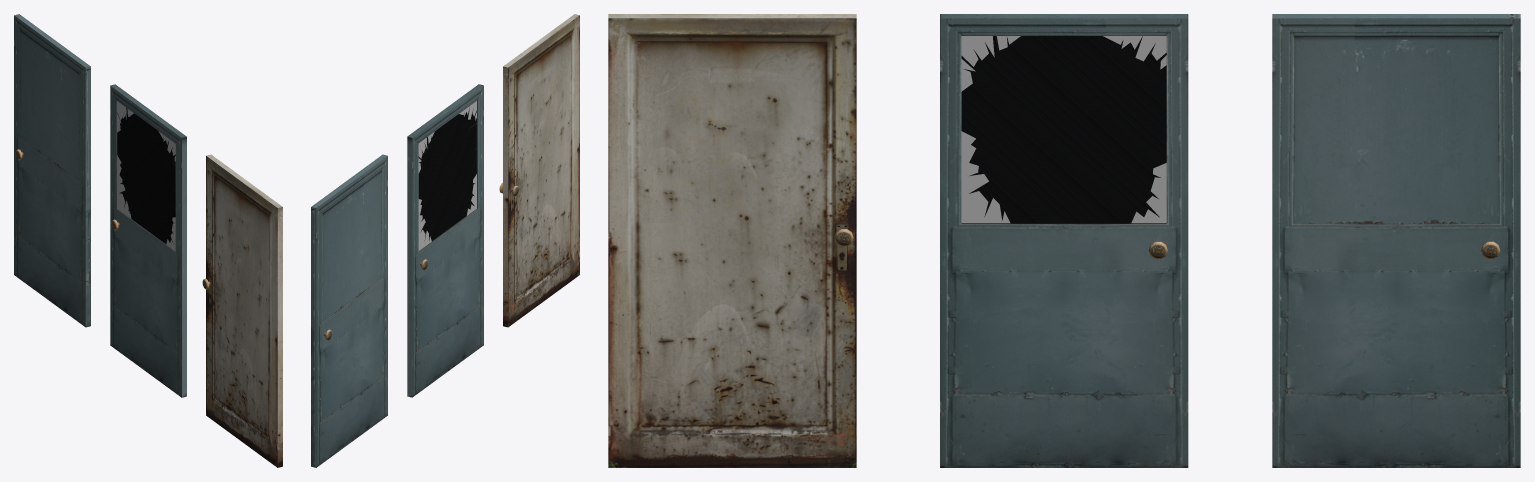
The model's file is Doors.FBX.
The picture shows the model from 3 angles, left to right: view 1: azimuth 30°, elevation 25°; view 2: azimuth 150°, elevation 25°; view 3: azimuth 270°, elevation 25°; orthographic projection. The views are drawn at different scales.
Parts seen in each view (by area): view 1: DoorMesh_A, DoorMesh_C, DoorMesh_B; view 2: DoorMesh_A, DoorMesh_C, DoorMesh_B; view 3: DoorMesh_A, DoorMesh_C, DoorMesh_B.
Boxes of the visible parts, bbox=[...] form: DoorMesh_A: bbox=[202, 154, 282, 467]; DoorMesh_C: bbox=[110, 84, 186, 397]; DoorMesh_B: bbox=[14, 14, 90, 327]; DoorMesh_A: bbox=[499, 14, 579, 327]; DoorMesh_C: bbox=[407, 84, 483, 397]; DoorMesh_B: bbox=[311, 154, 387, 467]; DoorMesh_A: bbox=[608, 14, 856, 467]; DoorMesh_C: bbox=[940, 14, 1188, 467]; DoorMesh_B: bbox=[1272, 14, 1520, 467].
Size of the model in its own units: 15.71 by 236 by 434.
